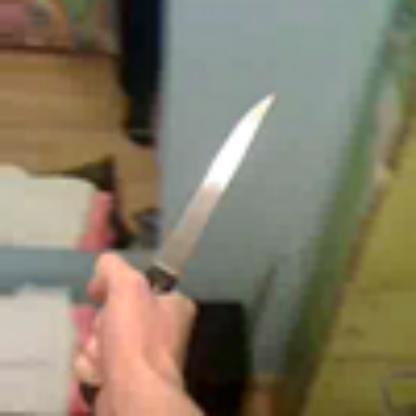knives: (54, 83, 320, 403)
